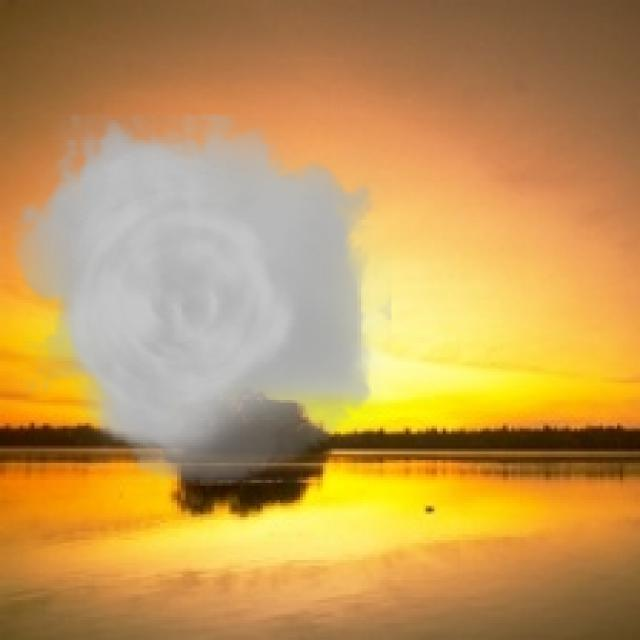Smoke: (0, 114, 392, 486)
